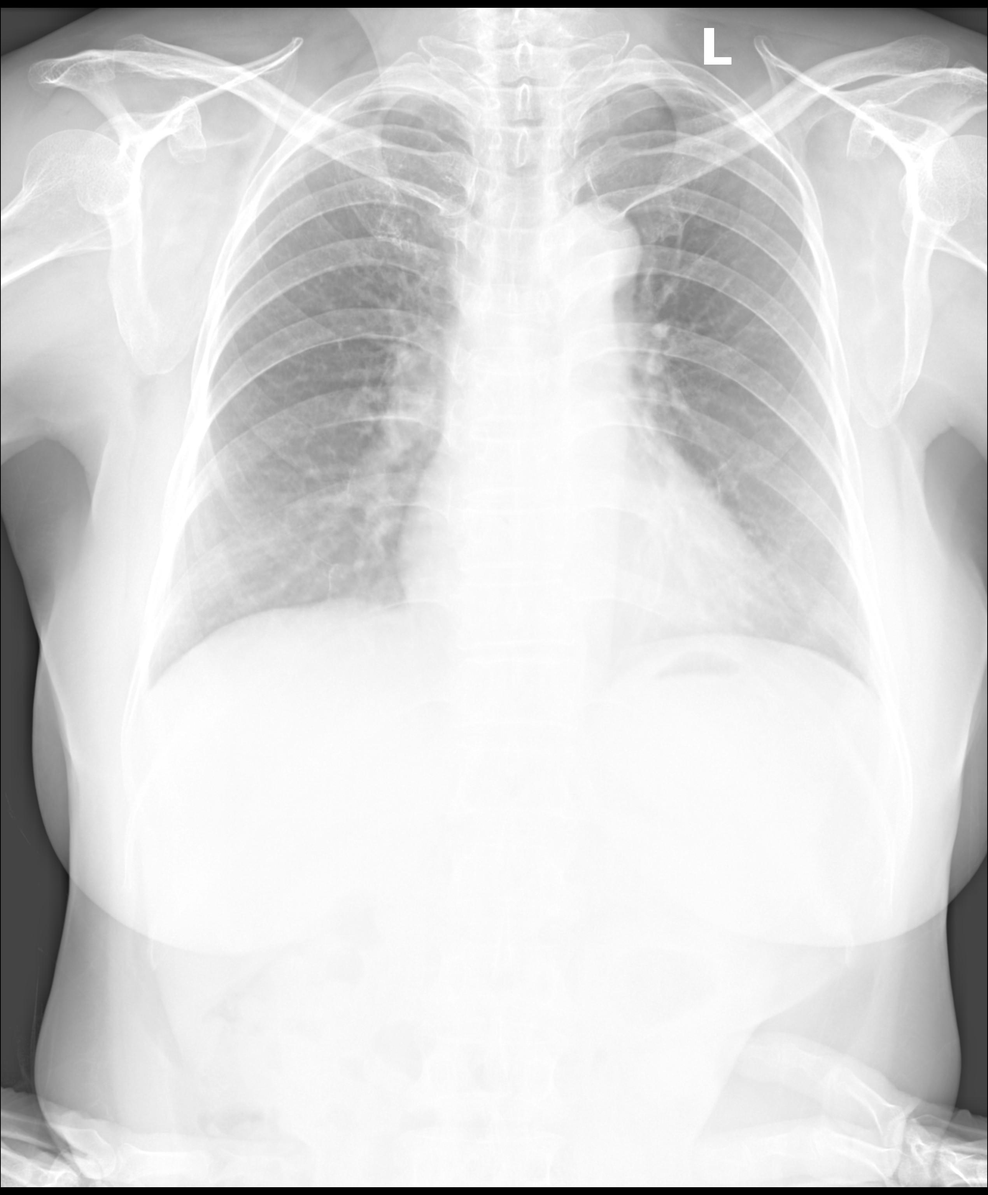Aortic enlargement: (537, 207, 643, 316)
